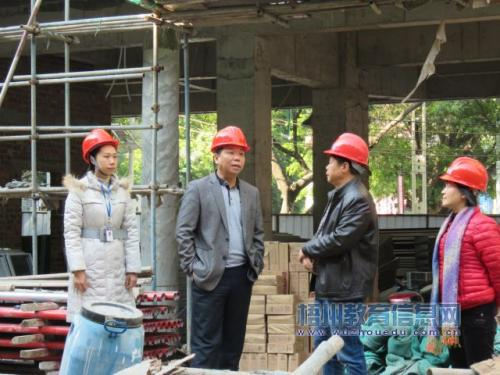helmet: (435, 153, 491, 213), (321, 129, 370, 192), (208, 122, 253, 180), (81, 127, 124, 178)
